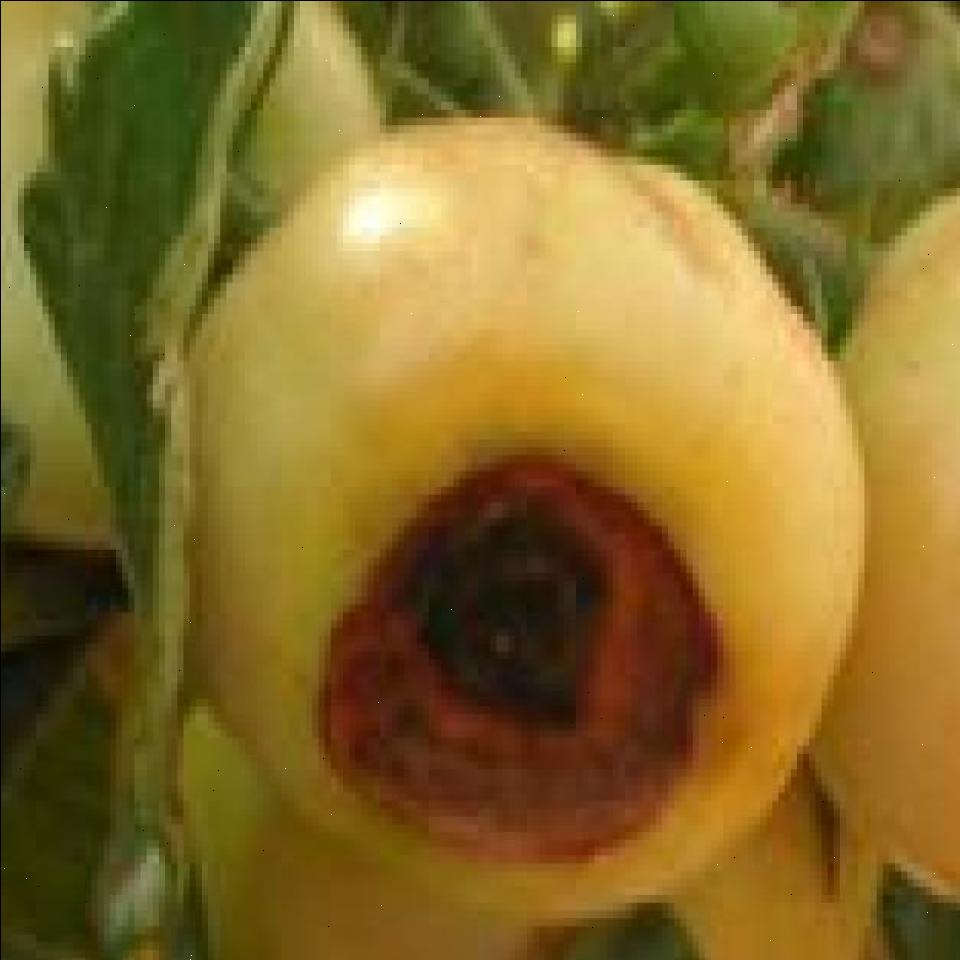Blossom_end_rot: (305, 446, 710, 871)
